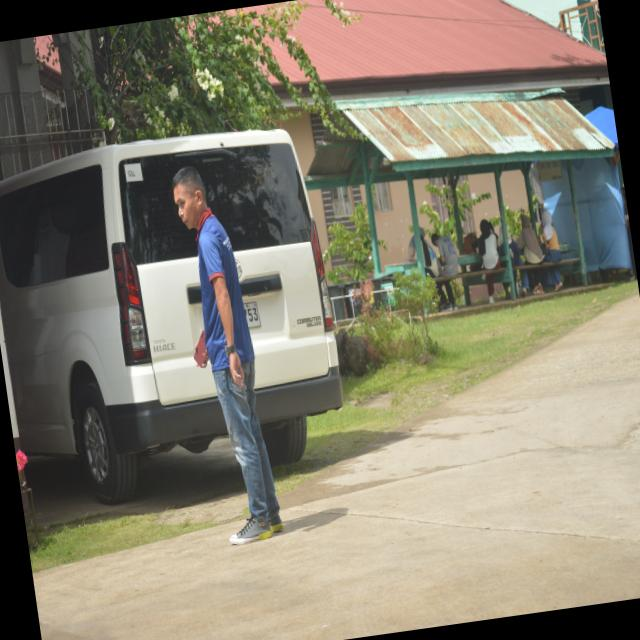person: (173, 167, 283, 544), (519, 215, 543, 265), (432, 233, 458, 277), (479, 220, 500, 270), (542, 209, 561, 262)
